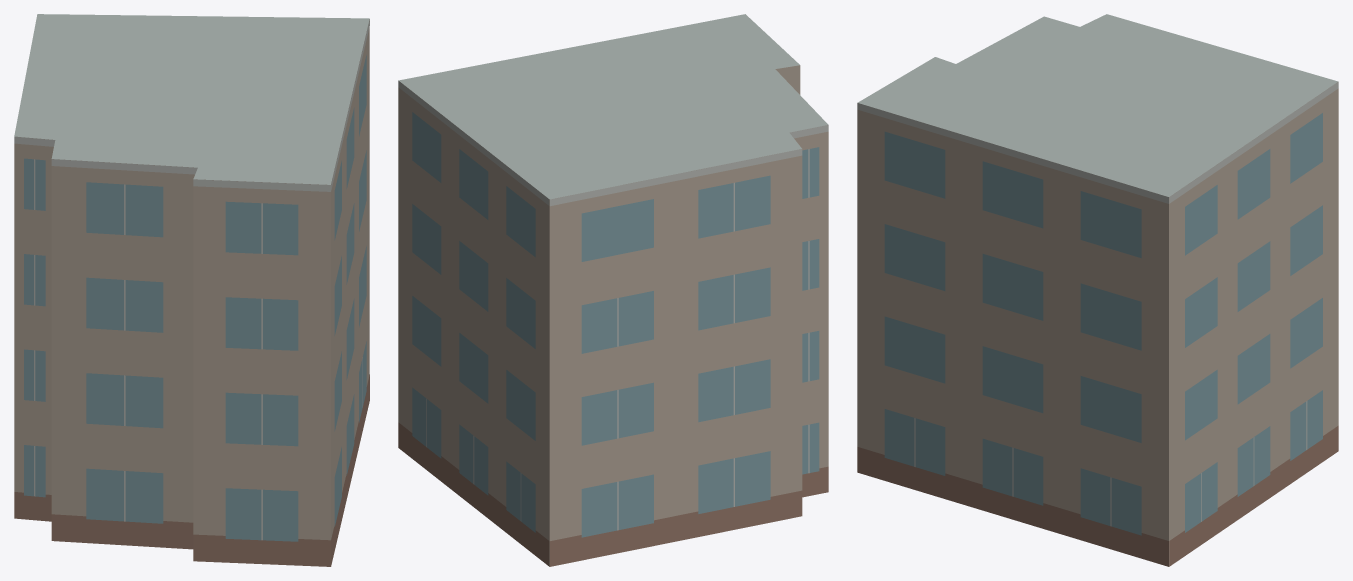
Rendered from survey-upis-32759370.glb.
3 renders of one model, left to right at view 1: azimuth 30°, elevation 25°; view 2: azimuth 150°, elevation 25°; view 3: azimuth 270°, elevation 25°, orthographic. The views are drawn at different scales.
Visible parts, largest first — view 1: survey-upis-32759370.tmp; view 2: survey-upis-32759370.tmp; view 3: survey-upis-32759370.tmp.
Part boxes in pixels (x1,y1,x2,y2): survey-upis-32759370.tmp: (14, 14, 369, 566); survey-upis-32759370.tmp: (398, 14, 828, 566); survey-upis-32759370.tmp: (857, 14, 1338, 566).
Bounding box in the file's own units: 14.09 × 13.25 × 15.64.
